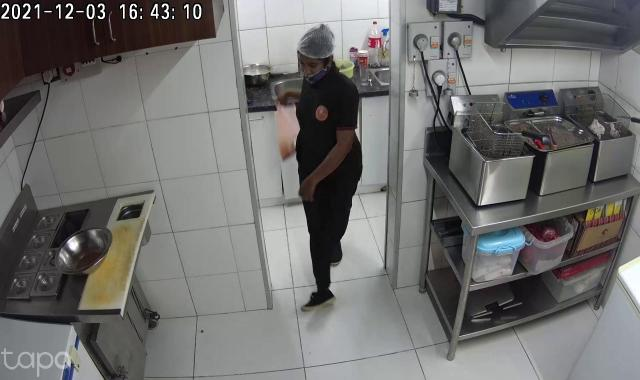hairnet: (296, 15, 342, 64)
